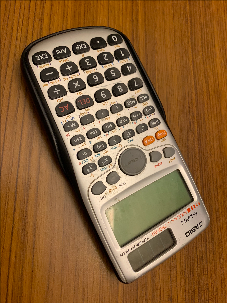object_name: (49, 47, 194, 256)
